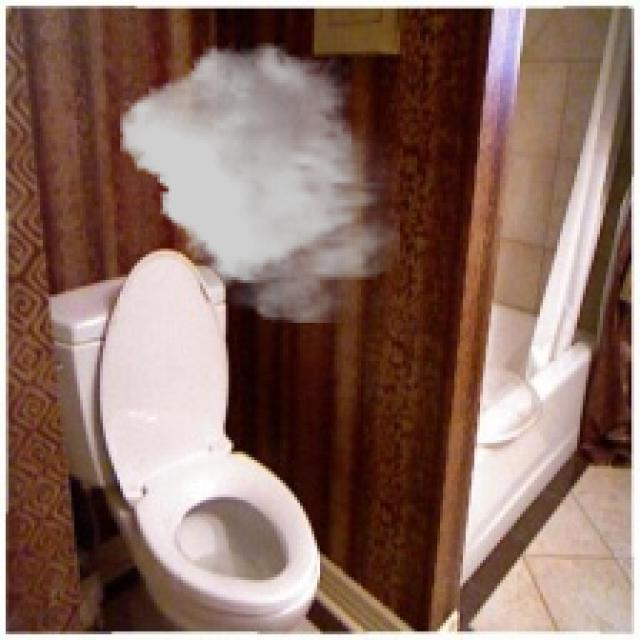Smoke: (120, 43, 400, 323)
